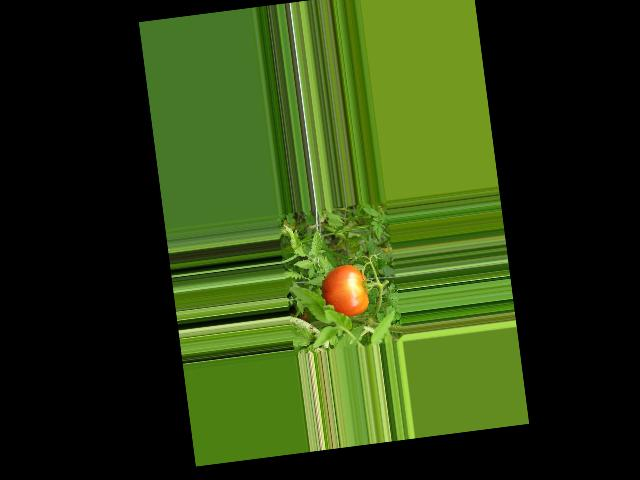tomato: (319, 262, 371, 319)
